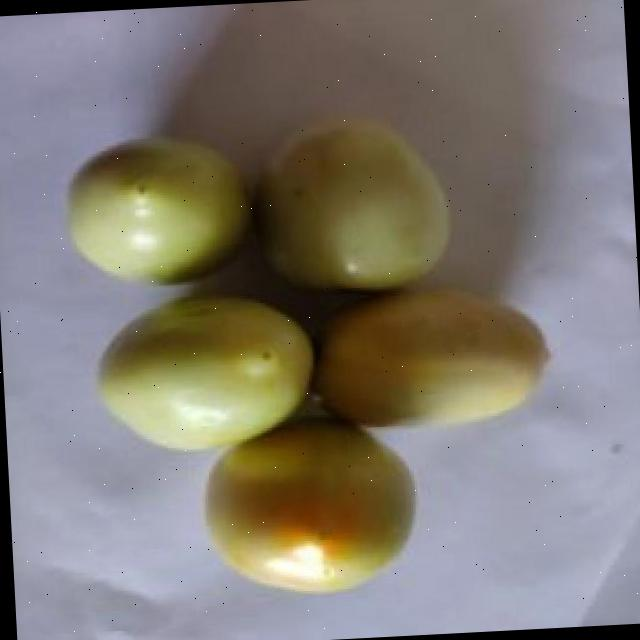tomato: (203, 421, 419, 598), (94, 290, 316, 458), (309, 281, 552, 433), (256, 116, 454, 296), (62, 133, 256, 289)
